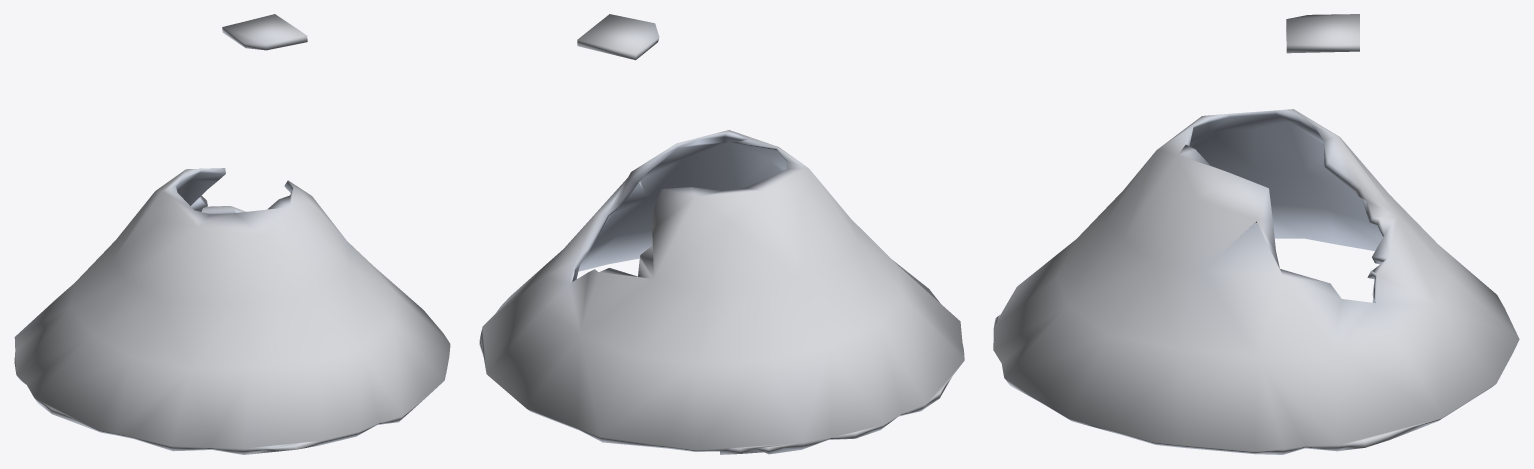
File: protocol.zora.snow.glb
3 renders of one model, left to right at view 1: azimuth 30°, elevation 25°; view 2: azimuth 150°, elevation 25°; view 3: azimuth 270°, elevation 25°, orthographic. The views are drawn at different scales.
Parts seen in each view (by area): view 1: building.protocol.zora.snow.mesh; view 2: building.protocol.zora.snow.mesh; view 3: building.protocol.zora.snow.mesh.
Boxes of the visible parts, <box> form: building.protocol.zora.snow.mesh: <box>14,14,450,454</box>; building.protocol.zora.snow.mesh: <box>479,14,964,454</box>; building.protocol.zora.snow.mesh: <box>993,14,1519,454</box>.
Size of the model in its own units: 3.81 by 2.83 by 3.79.
